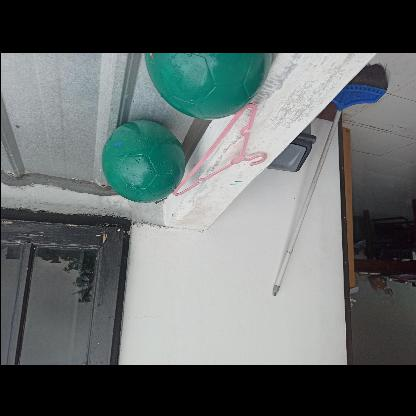green_ball: (100, 122, 182, 204)
